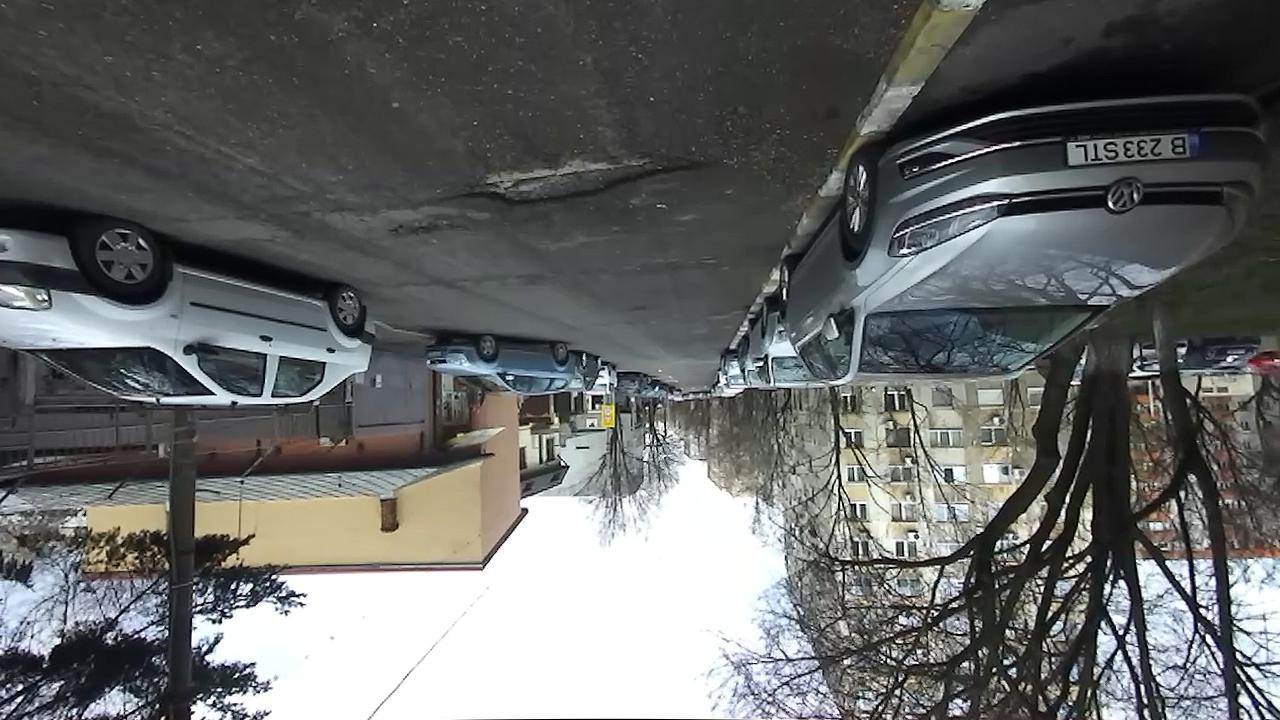pothole: (443, 144, 704, 209), (382, 214, 463, 243), (694, 254, 719, 266)
